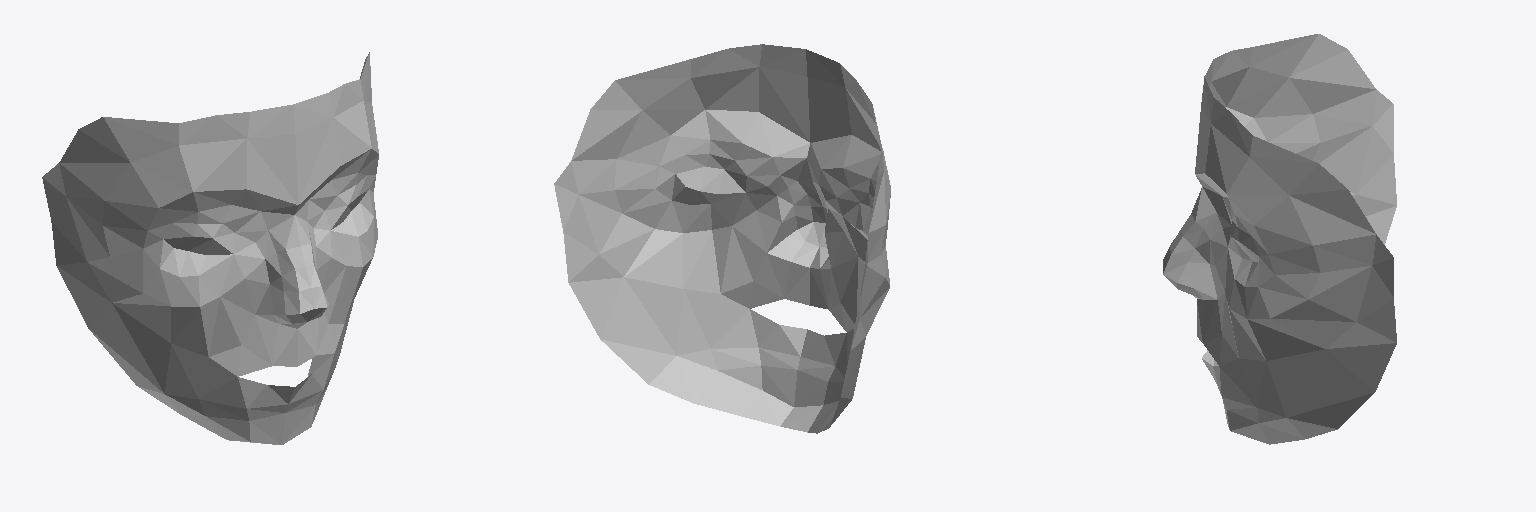
File: HERO1.OBJ
3 views of the same model, side by side, from view 1: azimuth 30°, elevation 25°; view 2: azimuth 150°, elevation 25°; view 3: azimuth 270°, elevation 25° (orthographic).
Parts seen in each view (by area): view 1: hero1; view 2: hero1; view 3: hero1.
Boxes of the visible parts, <box> form: hero1: <box>42,52,378,444</box>; hero1: <box>554,44,890,433</box>; hero1: <box>1163,34,1396,444</box>.
Size of the model in its own units: 6.83 by 7.45 by 4.42.